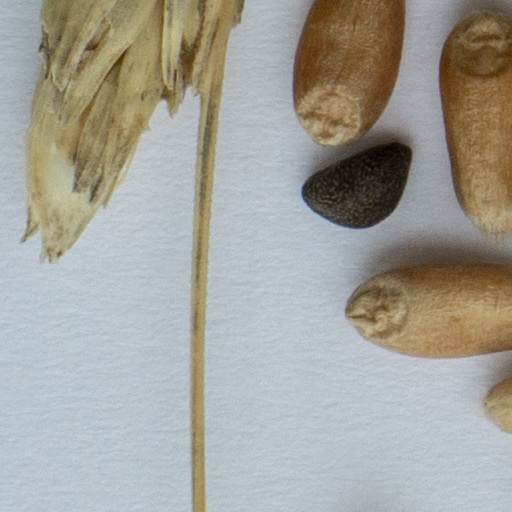Peel-poly: (19, 0, 251, 511)
